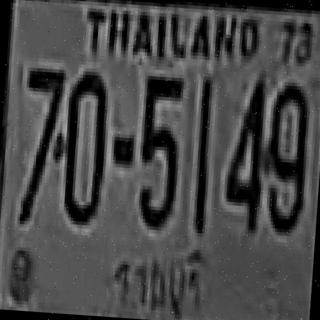N00: (61, 67, 110, 222)
N04: (222, 73, 266, 232)
N05: (135, 72, 184, 228)
N07: (19, 64, 65, 210), (22, 64, 65, 173)
N09: (262, 80, 309, 232)
P52: (100, 237, 212, 320)
